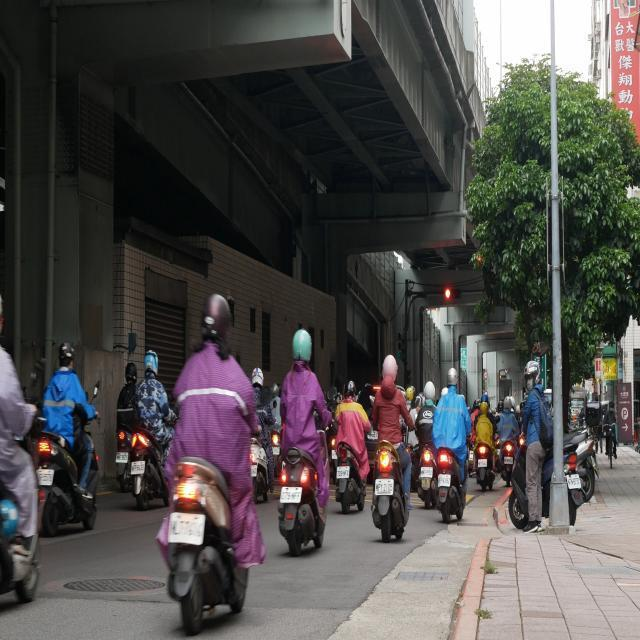Helmet: (196, 286, 236, 354), (285, 322, 317, 371), (54, 336, 78, 373), (378, 349, 402, 386), (520, 357, 544, 394), (139, 344, 161, 380), (246, 361, 269, 392), (119, 357, 141, 386), (443, 363, 461, 392), (339, 374, 357, 401), (421, 378, 437, 402), (500, 393, 515, 412), (478, 396, 489, 415)
bike: (162, 375, 256, 640), (34, 375, 103, 533), (274, 390, 337, 555), (371, 396, 420, 541), (129, 406, 180, 511), (436, 412, 474, 525), (336, 417, 370, 514), (243, 415, 276, 504), (415, 417, 440, 507), (115, 417, 135, 492), (476, 425, 498, 492), (500, 428, 517, 484)
rider: (173, 286, 263, 581), (283, 320, 330, 519), (44, 336, 93, 500), (372, 349, 413, 504), (520, 357, 552, 535), (436, 363, 470, 485), (138, 345, 172, 456), (339, 374, 372, 488), (247, 361, 276, 488), (118, 358, 141, 433), (419, 377, 438, 447), (500, 392, 519, 444), (477, 397, 495, 445)
